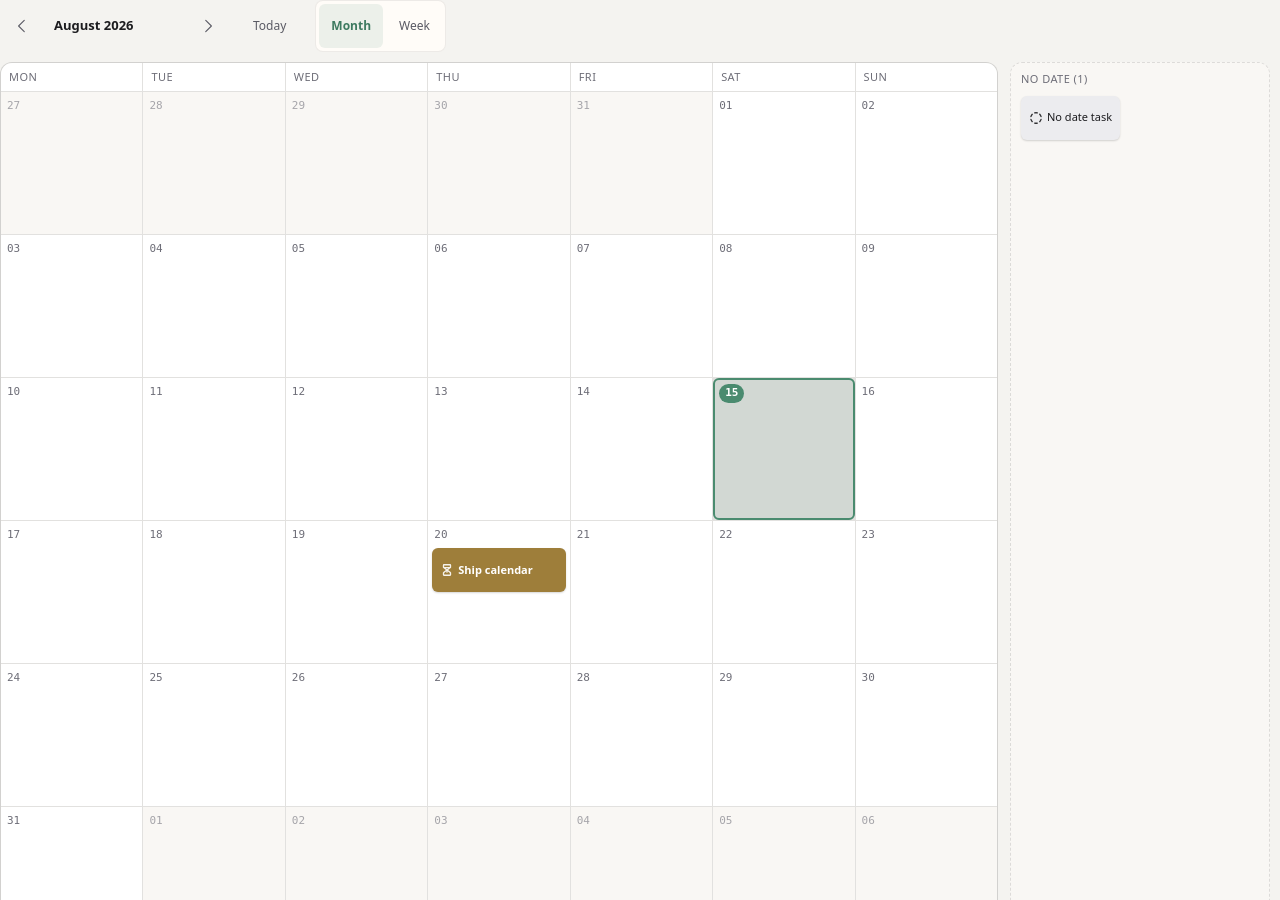
it: DueCalendar › opens the month picker from the month label and jumps to the picked month
Click the button "August 2026" at (115, 26), box [50, 4, 180, 48]
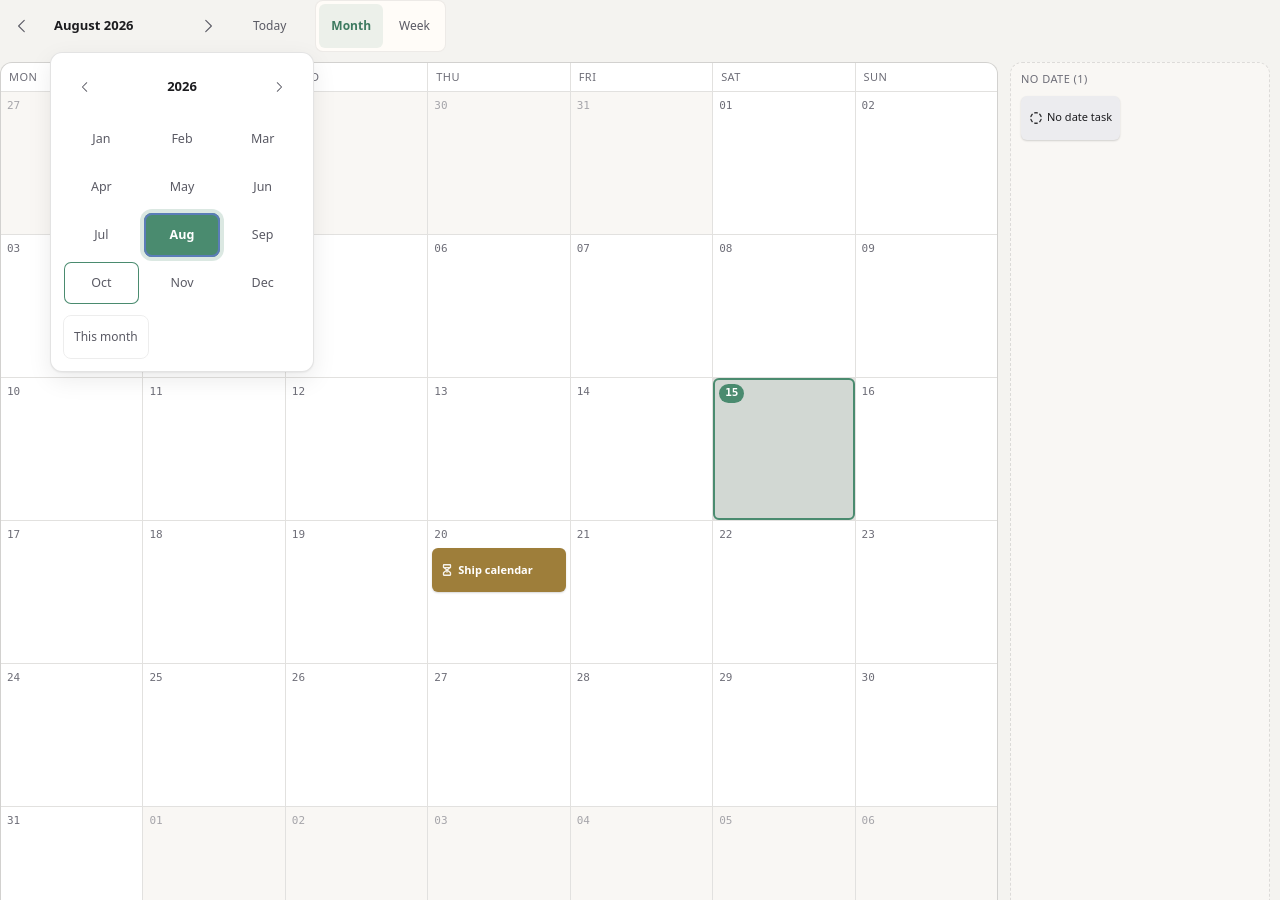
expect the dialog named "Pick month and year" is shown: met, box [50, 52, 314, 372]
Click the button with aria-label "Sep 2026" at (263, 235), box [224, 213, 301, 257]
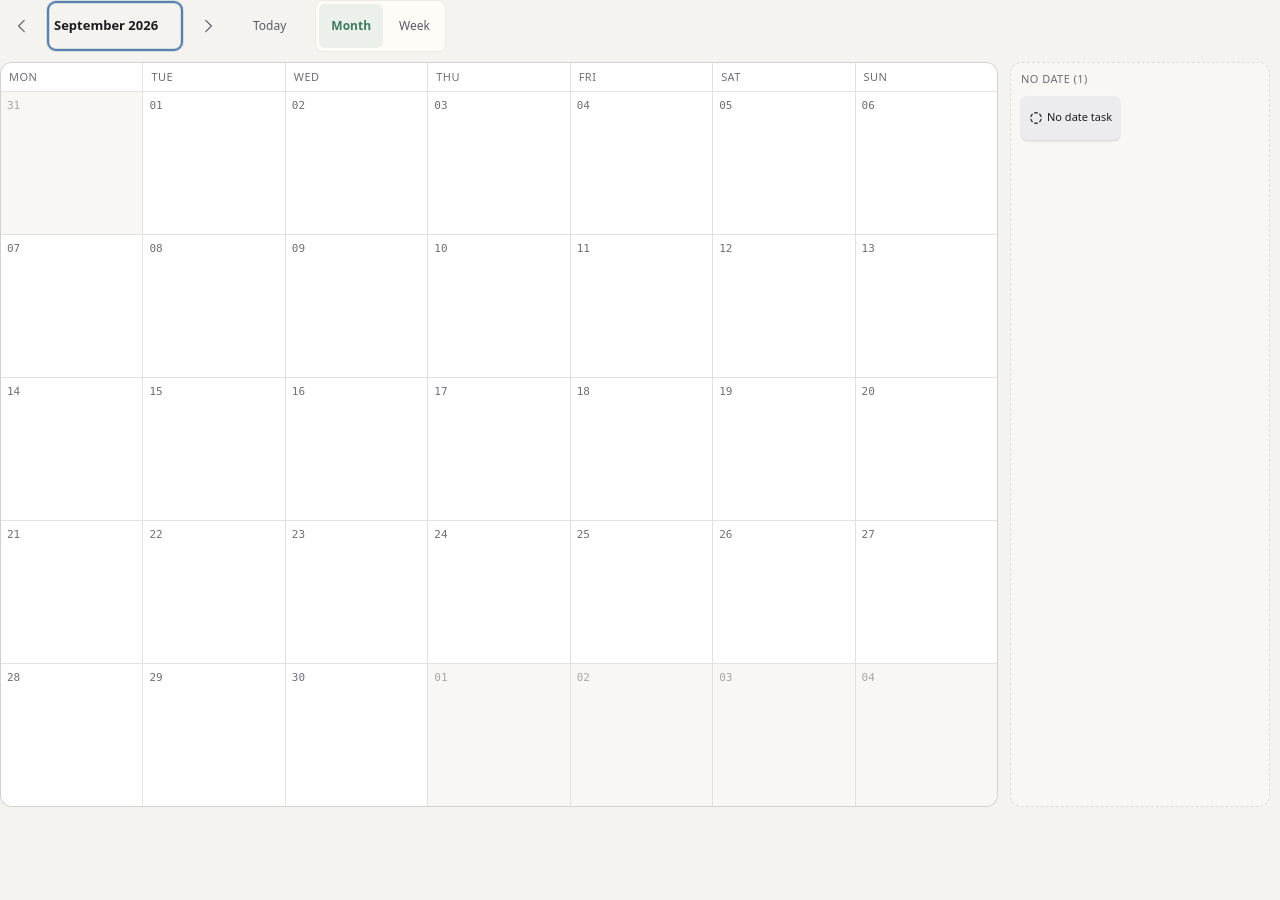
expect the button "September 2026" is shown: met, box [50, 4, 180, 48]
